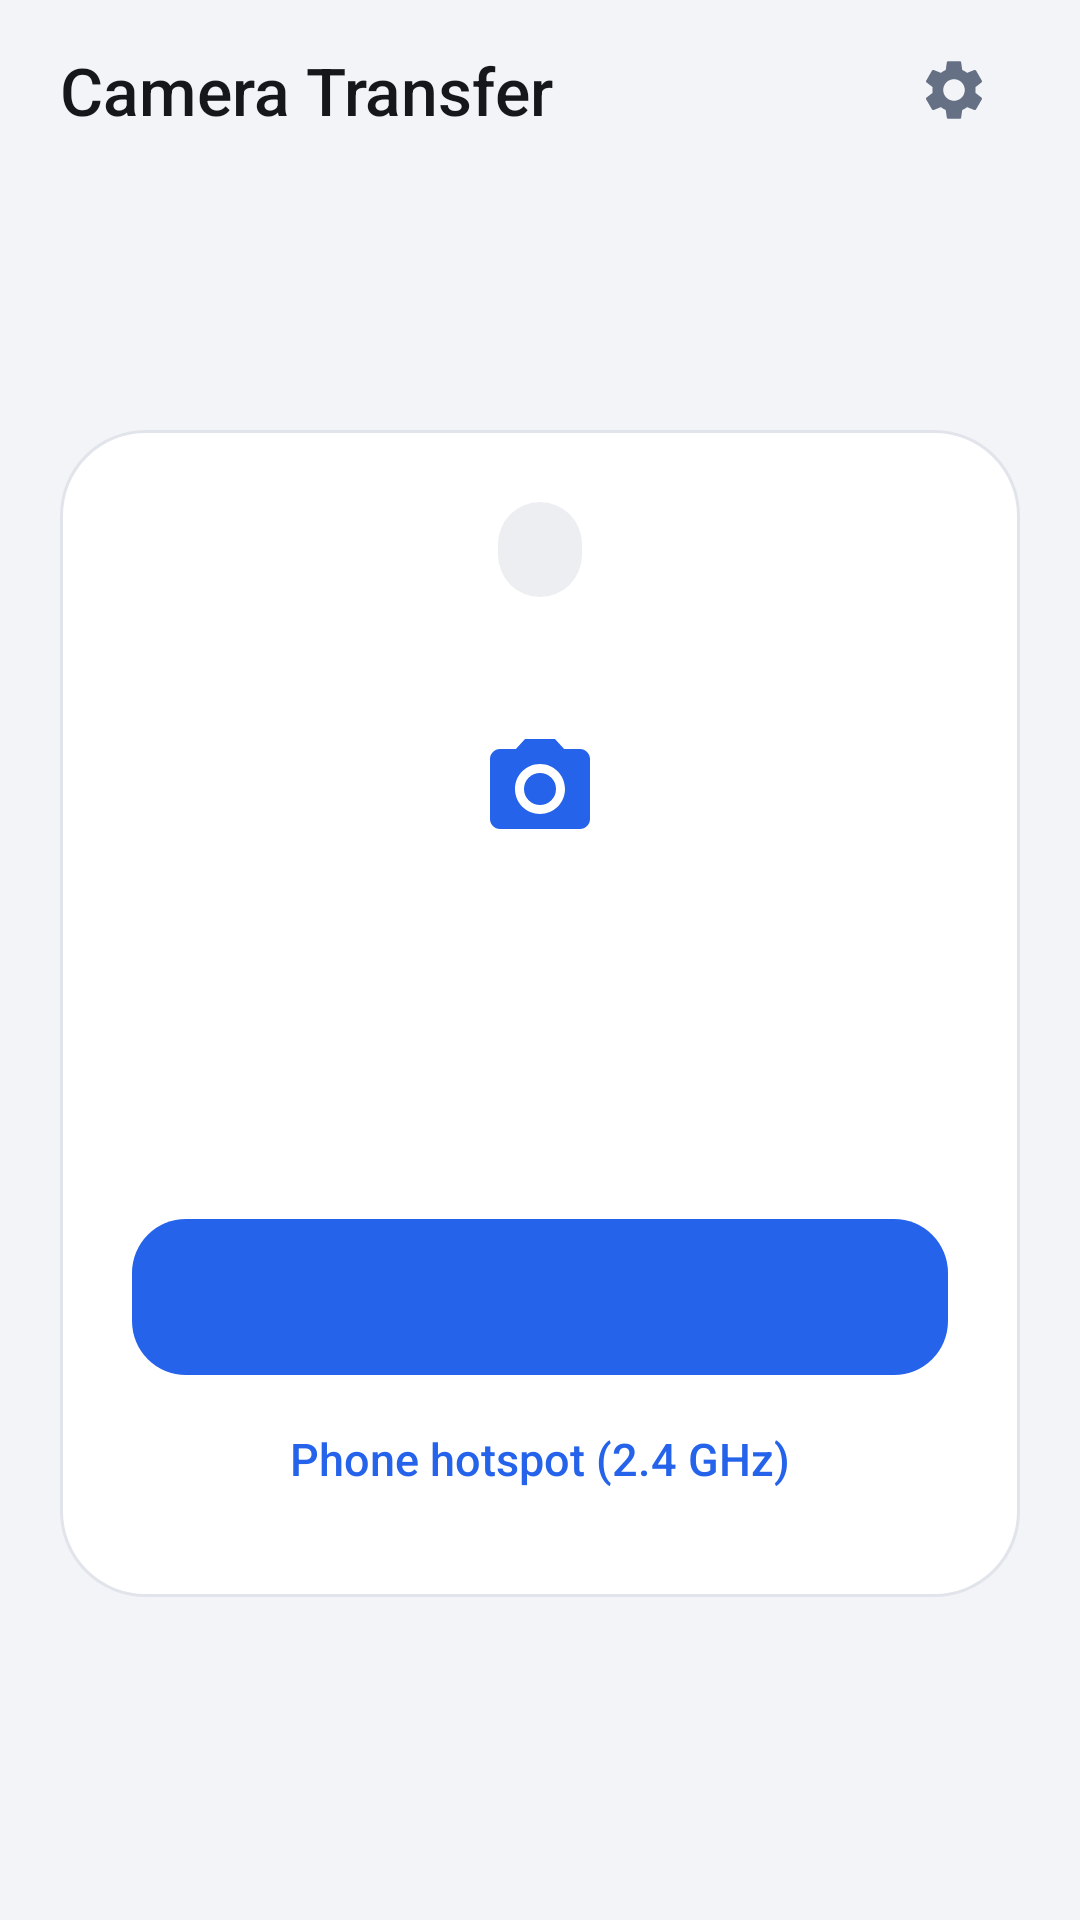

Icons on this 1080px x 1920px Android screen, each with the point to tap as (x=x, y=y):
camera: (x=540, y=784)
